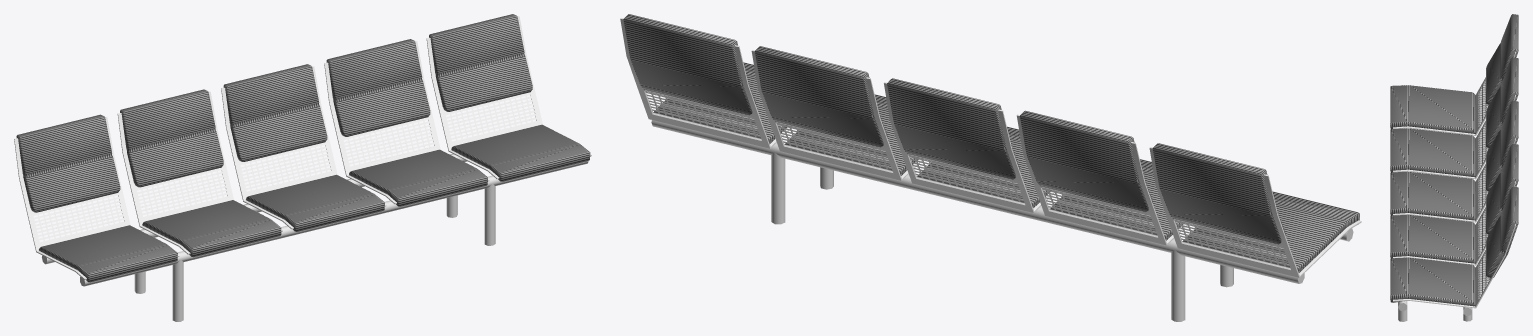
File: side-bench.fbx
3 renders of one model, left to right at view 1: azimuth 30°, elevation 25°; view 2: azimuth 150°, elevation 25°; view 3: azimuth 270°, elevation 25°, orthographic. The views are drawn at different scales.
Visible parts, largest first — view 1: Backrest4, Backrest3, Backrest1, Backrest2, Backrest5, Seat2, Seat1, Seat3, Seat5, Seat4, Grid4, Grid3 (+11 smaller); view 2: Backrest1, Backrest5, Backrest4, Backrest3, Backrest2, HorizontalSupport2, Seat1, Frame1, Frame3, Frame2, Frame4, Frame5 (+11 smaller); view 3: Seat5, Seat2, Seat1, Seat4, Seat3, Backrest5, Backrest2, Backrest1, Backrest3, Backrest4, Frame5, Frame1 (+9 smaller).
Part boxes in pixels (x1,y1,x2,y2): Backrest4: (326,39,430,136); Backrest3: (223,64,327,161); Backrest1: (16,114,120,212); Backrest2: (120,89,223,187); Backrest5: (429,14,532,111); Seat2: (142,200,281,257); Seat1: (39,225,177,282); Seat3: (246,174,384,231); Seat5: (451,124,590,181); Seat4: (349,149,487,206); Grid4: (343,119,435,167); Grid3: (240,144,331,192); Backrest1: (1152,143,1285,244); Backrest5: (623,14,756,115); Backrest4: (755,46,887,147); Backrest3: (887,78,1019,179); Backrest2: (1020,110,1152,212); HorizontalSupport2: (651,120,1304,283); Seat1: (1183,191,1359,272); Frame1: (1149,147,1361,277); Frame3: (884,82,1054,212); Frame2: (1016,114,1187,245); Frame4: (751,50,921,180); Frame5: (620,18,789,148); Seat5: (1390,257,1475,306); Seat2: (1390,128,1475,177); Seat1: (1390,85,1475,133); Seat4: (1390,215,1475,263); Seat3: (1390,171,1475,220); Backrest5: (1486,186,1518,277); Backrest2: (1486,57,1518,148); Backrest1: (1486,14,1518,104); Backrest3: (1486,100,1518,191); Backrest4: (1486,143,1518,234); Frame5: (1393,224,1515,308); Frame1: (1393,52,1515,135).
Bounding box in the file's own units: 477 × 143 × 122.
